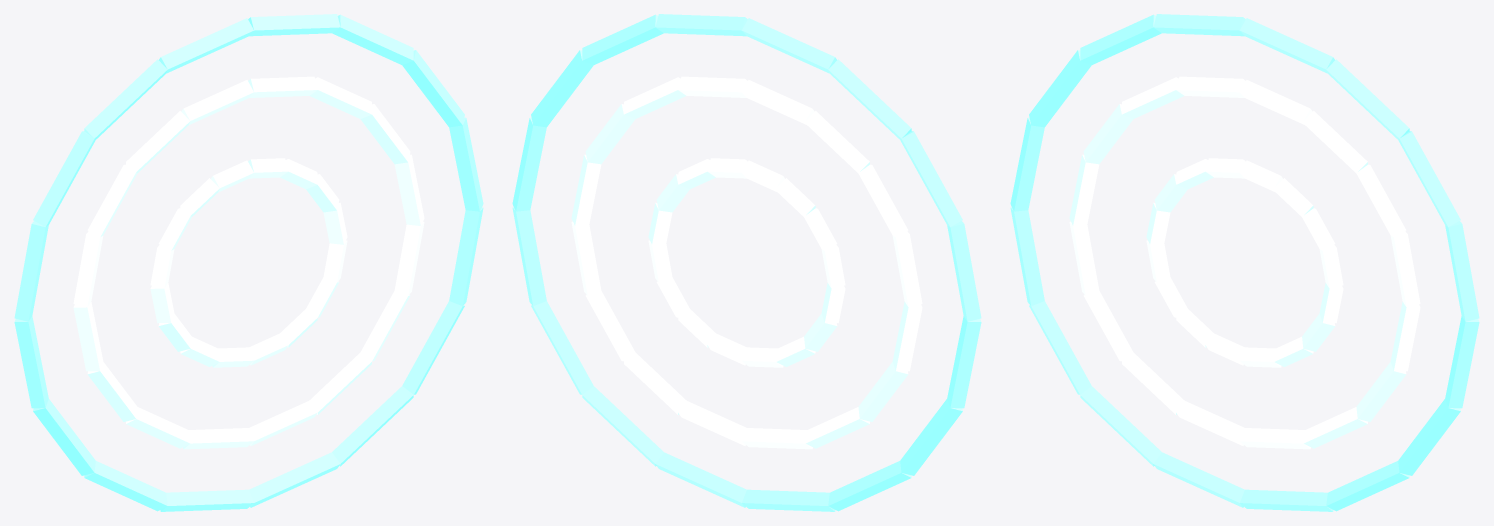
File: borealiscollapse.glb
3 views of the same model, side by side, from view 1: azimuth 30°, elevation 25°; view 2: azimuth 150°, elevation 25°; view 3: azimuth 330°, elevation 25° (orthographic).
Parts seen in each view (by area): view 1: Borealis Collapse dimensional effect.001; view 2: Borealis Collapse dimensional effect.001; view 3: Borealis Collapse dimensional effect.001.
Part boxes in pixels (x1=…): Borealis Collapse dimensional effect.001: x1=14, y1=14, x2=483, y2=511; Borealis Collapse dimensional effect.001: x1=512, y1=14, x2=981, y2=511; Borealis Collapse dimensional effect.001: x1=1010, y1=14, x2=1479, y2=511.
Size of the model in its own units: 1.83 by 1.83 by 0.07.
